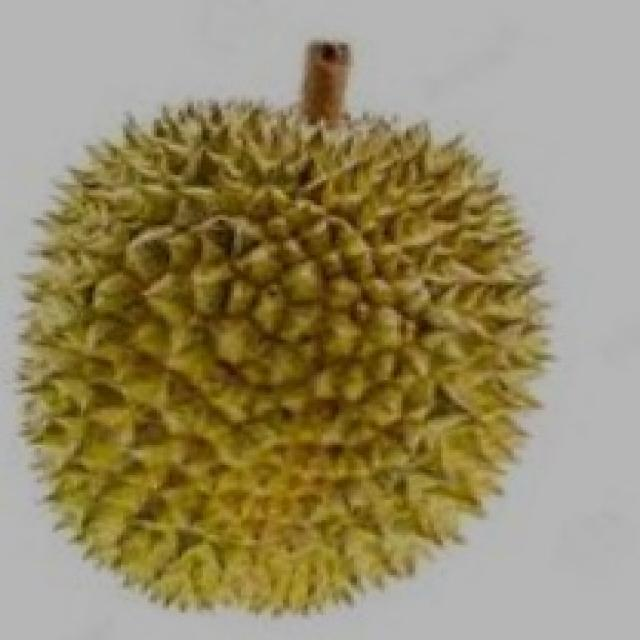fruit: (207, 255, 616, 640), (0, 275, 378, 640)
